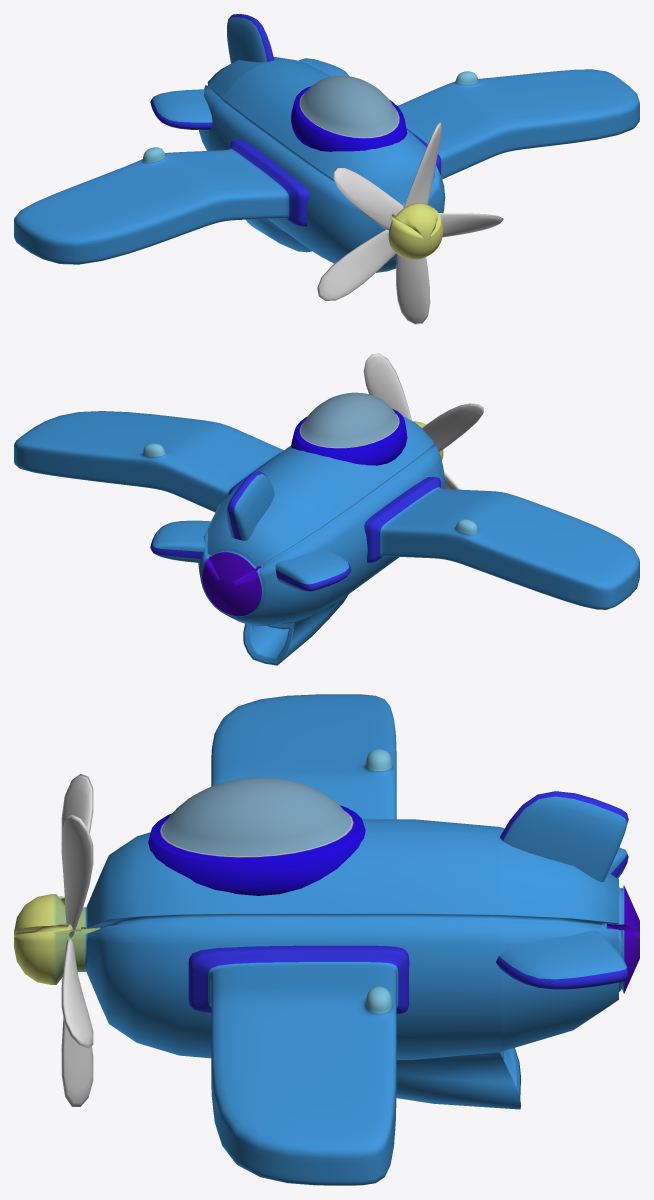
The picture shows the model from 3 angles, top to bottom: view 1: azimuth 30°, elevation 25°; view 2: azimuth 150°, elevation 25°; view 3: azimuth 270°, elevation 25°; orthographic projection. The views are drawn at different scales.
Parts seen in each view (by area): view 1: Sphere.003, Cube.012; view 2: Sphere.003, Cube.012; view 3: Sphere.003, Cube.012.
Part boxes in pixels (x1,y1,x2,y2): Sphere.003: (14,14,639,272); Cube.012: (317,122,503,324); Sphere.003: (14,392,639,665); Cube.012: (363,353,483,489); Sphere.003: (14,694,639,1185); Cube.012: (61,774,93,1106).
Size of the model in its own units: 899 by 291 by 519.
